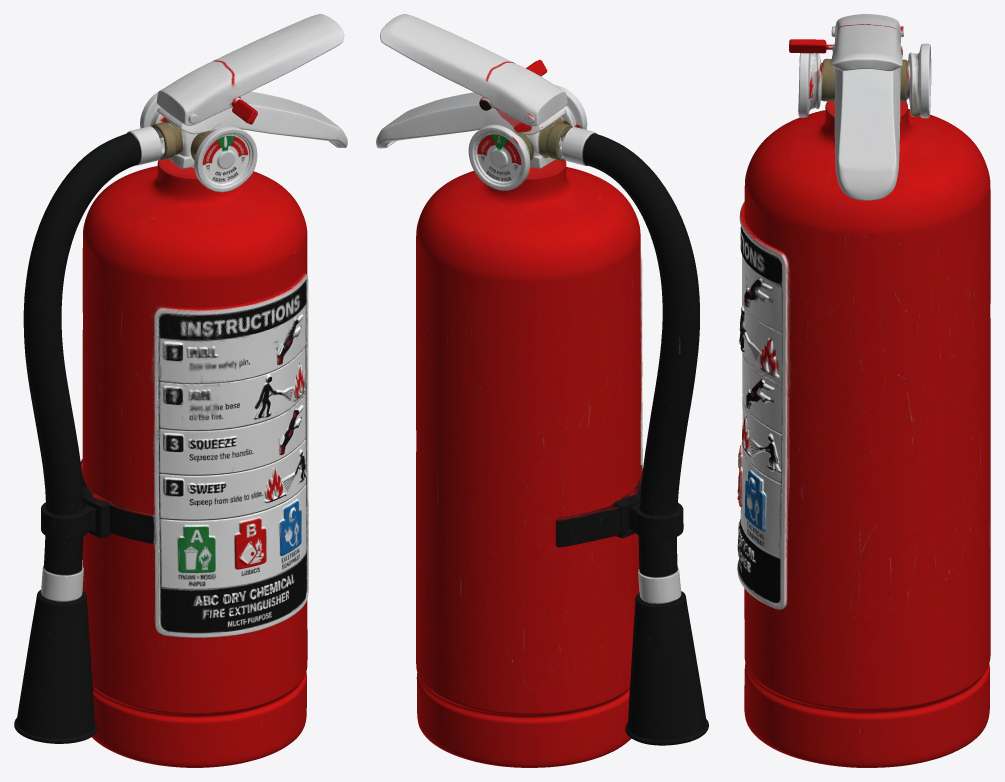
3 renders of one model, left to right at view 1: azimuth 30°, elevation 25°; view 2: azimuth 150°, elevation 25°; view 3: azimuth 270°, elevation 25°, orthographic. The views are drawn at different scales.
Bounding box in the file's own units: 0.9494 × 1.9 × 0.593.
Materials: 1 (1 with a texture image).
